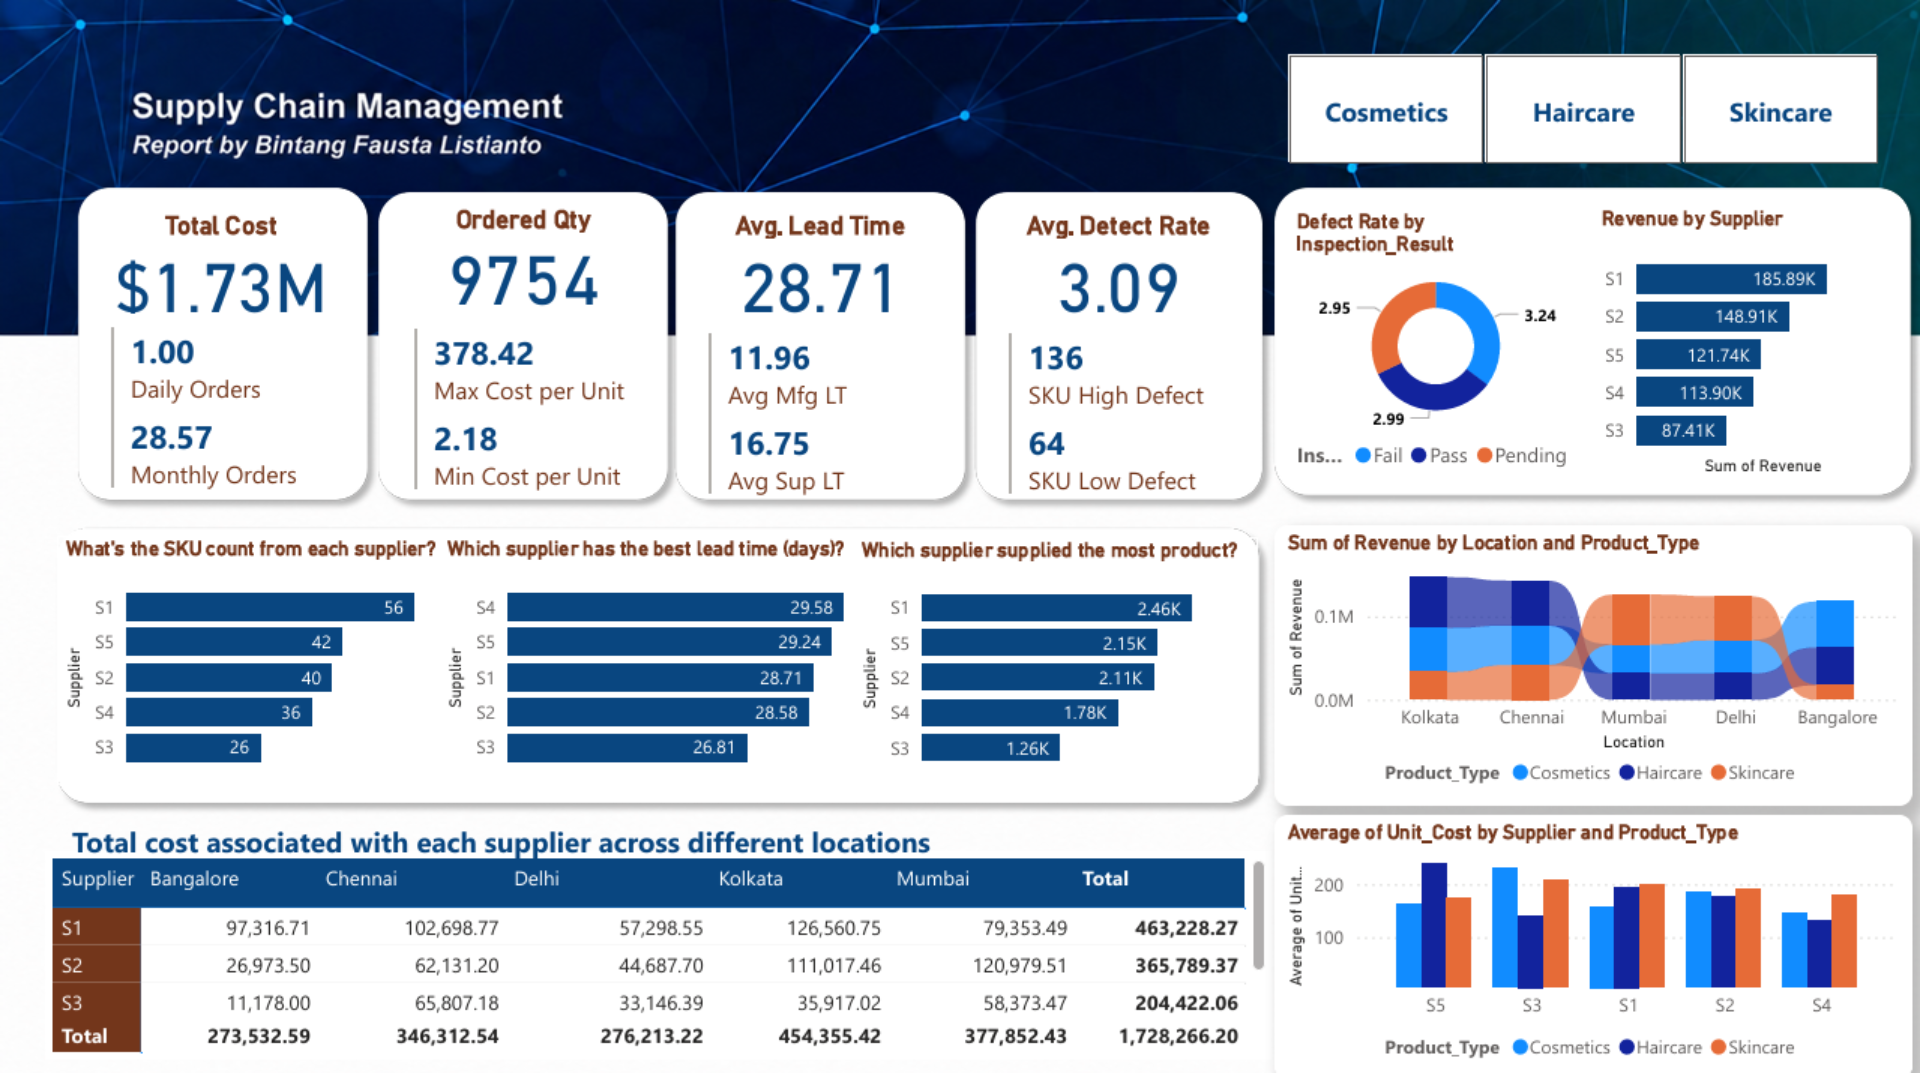

The dashboard page shown, as its layout file describes it:
{"tool":"powerbi","page":{"name":"Page 1","canvas":[1280,720],"ordinal":0},"visuals":[{"type":"shape","box":[42.1,115.8,210.5,226.3],"z":0},{"type":"multiRowCard","fields":{"Values":["M1.Daily Orders","M1.Monthly Orders"]},"box":[68.8,213.8,155,123.8],"z":1000},{"type":"card","title":"Total Cost","fields":{"Values":["M1.Total Cost"]},"box":[67.5,140,156.2,73.8],"z":2000},{"type":"shape","box":[242.1,119.3,210.5,222.8],"z":3000},{"type":"multiRowCard","fields":{"Values":["M1.Max Cost per Unit","M1.Min Cost per Unit"]},"box":[271,215,153.8,125],"z":4000},{"type":"card","title":"Ordered Qty","fields":{"Values":["Sum(SupplyChainData.Ordered_Quantity)"]},"box":[269.8,136.2,155,72.5],"z":5000},{"type":"shape","box":[440.4,119.3,210.5,222.8],"z":6000},{"type":"multiRowCard","fields":{"Values":["M1.Avg Manufacturin Lead Time","M1.Avg Supplier Lead Time"]},"box":[467.5,217.5,153.8,123.8],"z":7000},{"type":"card","title":"Avg. Lead Time","fields":{"Values":["M1.Avg Lead Time (Days)"]},"box":[467.5,140,156.2,73.8],"z":8000},{"type":"shape","box":[640.4,119.3,208.8,222.8],"z":9000},{"type":"multiRowCard","fields":{"Values":["M1.SKU High Defect","M1.SKU Low Defect"]},"box":[667.2,217.5,153.8,123.8],"z":10000},{"type":"card","title":"Avg. Detect Rate","fields":{"Values":["M1.Average Defect Rate"]},"box":[667.2,140,155,73.8],"z":11000},{"type":"shape","box":[838.6,115.8,442.1,222.8],"z":12000},{"type":"donutChart","title":"Defect Rate by Inspection_Result","fields":{"Category":["SupplyChainData.Inspection_Result"],"Y":["M1.Average Defect Rate"]},"box":[858.3,140,195,181.7],"z":13000},{"type":"clusteredBarChart","title":"Revenue by Supplier","fields":{"Category":["SupplyChainData.Supplier"],"Y":["Sum(SupplyChainData.Revenue)"]},"box":[1060,136.7,203.3,185],"z":14000},{"type":"slicer","fields":{"Values":["SupplyChainData.Product_Type"]},"box":[831.6,29.8,442.1,86],"z":15000},{"type":"shape","box":[28,343.3,819.2,200.4],"z":16000},{"type":"clusteredBarChart","title":"What''s the SKU count from each supplier?","fields":{"Y":["CountNonNull(SupplyChainData.SKU)"],"Category":["SupplyChainData.Supplier"]},"box":[36.7,356.6,264.9,166.7],"z":17000},{"type":"clusteredBarChart","title":"Which supplier has the best lead time (days)?","fields":{"Category":["SupplyChainData.Supplier"],"Y":["M1.Avg Lead Time (Days)"]},"box":[291,356.6,277.2,166.7],"z":18000},{"type":"clusteredBarChart","title":"Which supplier supplied the most product?","fields":{"Category":["SupplyChainData.Supplier"],"Y":["Sum(SupplyChainData.Ordered_Quantity)"]},"box":[566.7,358.3,270,165],"z":19000},{"type":"pivotTable","fields":{"Columns":["SupplyChainData.Location"],"Rows":["SupplyChainData.Supplier"],"Values":["Sum(SupplyChainData.Total_Cost)"]},"box":[29.8,568.4,817.5,138.6],"z":20000},{"type":"textbox","box":[41.7,543.3,818.3,40],"z":21000},{"type":"ribbonChart","fields":{"Category":["SupplyChainData.Location"],"Y":["Sum(SupplyChainData.Revenue)"],"Series":["SupplyChainData.Product_Type"]},"box":[848.3,350,425,186.7],"z":22000},{"type":"clusteredColumnChart","fields":{"Category":["SupplyChainData.Supplier"],"Y":["Avg(SupplyChainData.Unit_Cost)"],"Series":["SupplyChainData.Product_Type"]},"box":[848.3,543.3,425,176.7],"z":22001}]}

Visuals, with their boxes in screenshot pixels (x1, y1, x2, y2), scaled from the page's 1280x720 canvas onto the 1920x1080 screenshot:
shape: 63 174 379 513
multiRowCard - M1.Daily Orders x M1.Monthly Orders: 103 321 336 506
"Total Cost" card: 101 210 336 321
shape: 363 179 679 513
multiRowCard - M1.Max Cost per Unit x M1.Min Cost per Unit: 406 322 637 510
"Ordered Qty" card: 405 204 637 313
shape: 661 179 976 513
multiRowCard - M1.Avg Manufacturin Lead Time x M1.Avg Supplier Lead Time: 701 326 932 512
"Avg. Lead Time" card: 701 210 936 321
shape: 961 179 1274 513
multiRowCard - M1.SKU High Defect x M1.SKU Low Defect: 1001 326 1232 512
"Avg. Detect Rate" card: 1001 210 1233 321
shape: 1258 174 1919 508
"Defect Rate by Inspection_Result" donutChart: 1287 210 1580 483
"Revenue by Supplier" clusteredBarChart: 1590 205 1895 483
slicer - SupplyChainData.Product_Type: 1247 45 1911 174
shape: 42 515 1271 816
"What''s the SKU count from each supplier?" clusteredBarChart: 55 535 452 785
"Which supplier has the best lead time (days)?" clusteredBarChart: 436 535 852 785
"Which supplier supplied the most product?" clusteredBarChart: 850 537 1255 785
pivotTable - SupplyChainData.Location x SupplyChainData.Supplier: 45 853 1271 1060
textbox: 63 815 1290 875
ribbonChart - SupplyChainData.Location x Sum(SupplyChainData.Revenue): 1272 525 1910 805
clusteredColumnChart - SupplyChainData.Supplier x Avg(SupplyChainData.Unit_Cost): 1272 815 1910 1079
